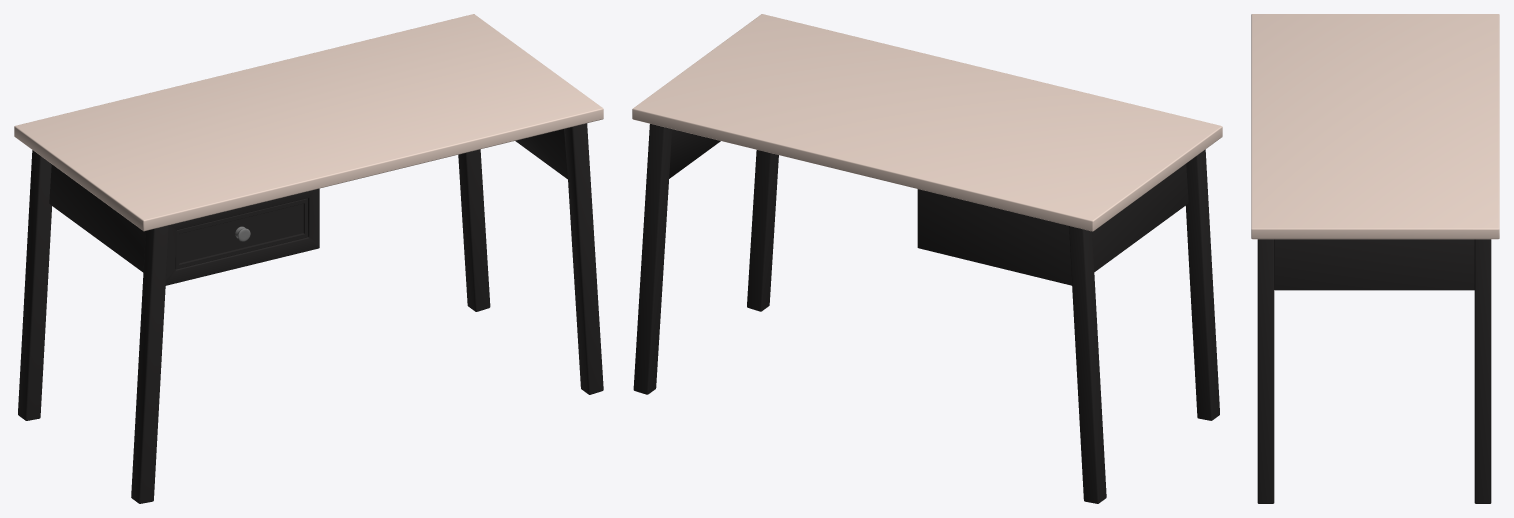
Rendered from 4f8723d6-6bc8-45ba-8b57-f125bbc86886.glb.
3 views of the same model, side by side, from view 1: azimuth 30°, elevation 25°; view 2: azimuth 150°, elevation 25°; view 3: azimuth 270°, elevation 25° (orthographic). The views are drawn at different scales.
Parts seen in each view (by area): view 1: Modern Desk; view 2: Modern Desk; view 3: Modern Desk.
Part boxes in pixels (x1,y1,x2,y2): Modern Desk: [14, 14, 603, 503]; Modern Desk: [632, 14, 1222, 503]; Modern Desk: [1251, 14, 1499, 503].
Bounding box in the file's own units: 1.29 × 0.76 × 0.6229.
